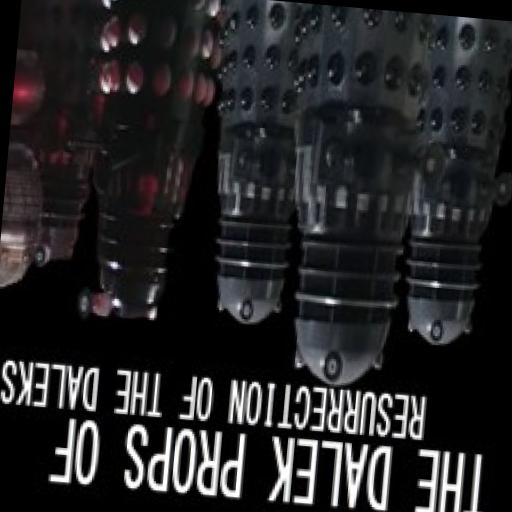dalek: (259, 2, 449, 396), (75, 0, 225, 333), (190, 0, 319, 330), (394, 15, 512, 348), (1, 0, 102, 267)
